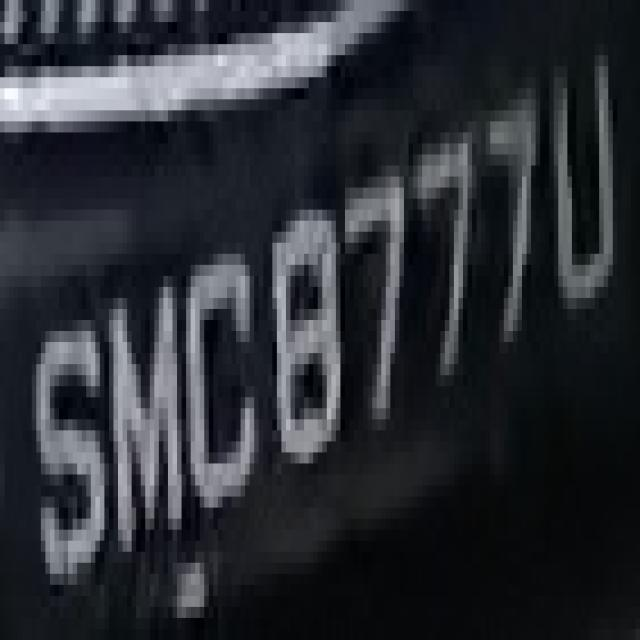7: (395, 89, 481, 452), (336, 121, 413, 464), (463, 100, 536, 408)
8: (259, 166, 345, 497)
C: (186, 254, 259, 540)
M: (104, 276, 190, 585)
S: (18, 309, 114, 607)
U: (540, 44, 617, 386)
